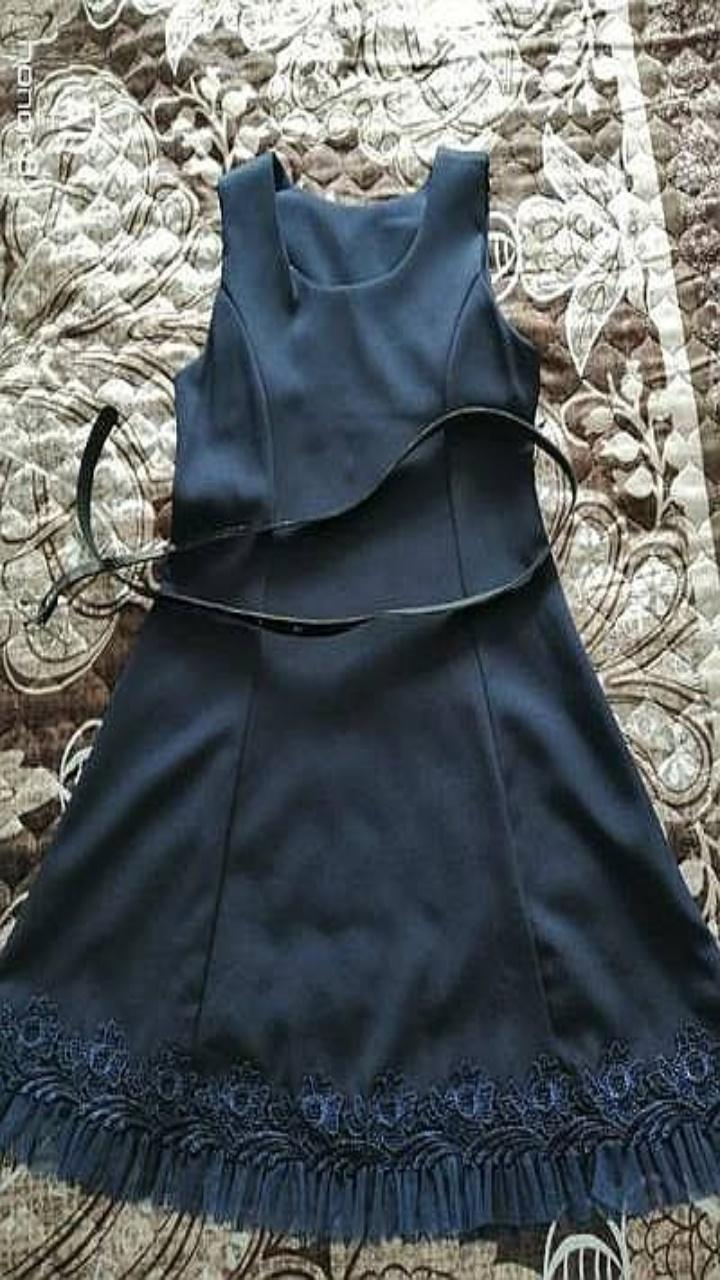Dresses: (0, 146, 719, 1239)
